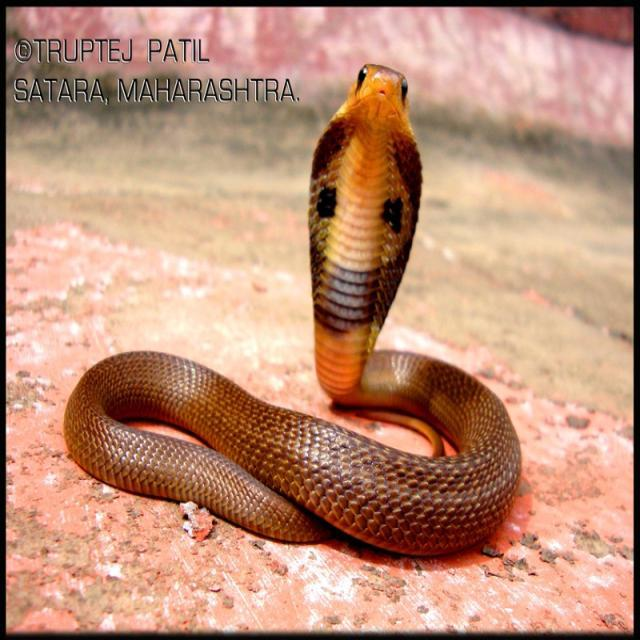Snake: (61, 61, 522, 557)
